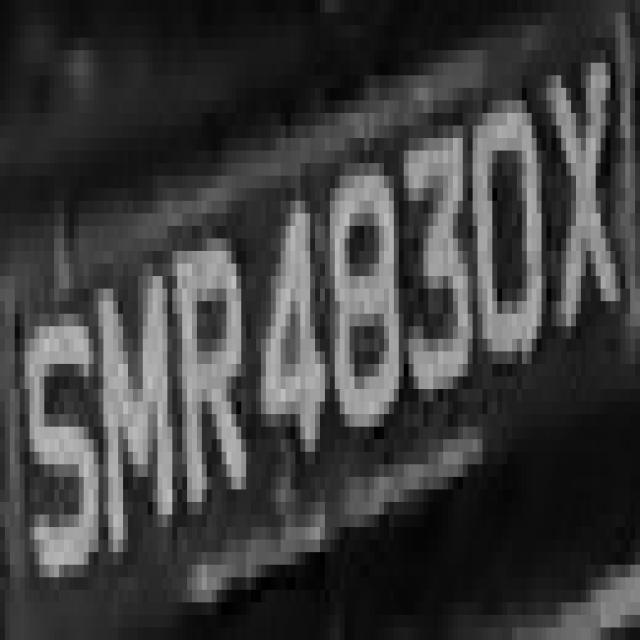0: (468, 88, 546, 401)
3: (384, 100, 468, 452)
4: (241, 176, 335, 502)
8: (310, 126, 404, 490)
M: (89, 226, 177, 552)
R: (172, 213, 246, 552)
S: (15, 263, 103, 615)
X: (537, 12, 620, 376)
